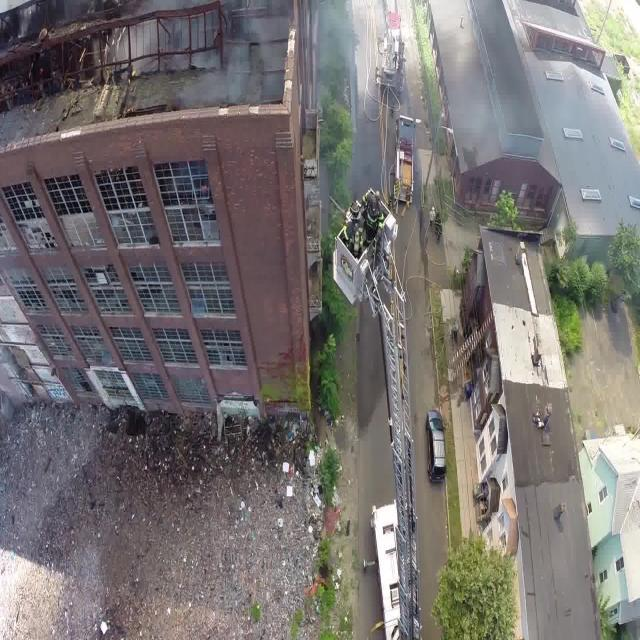Smoke: (148, 0, 356, 120)
